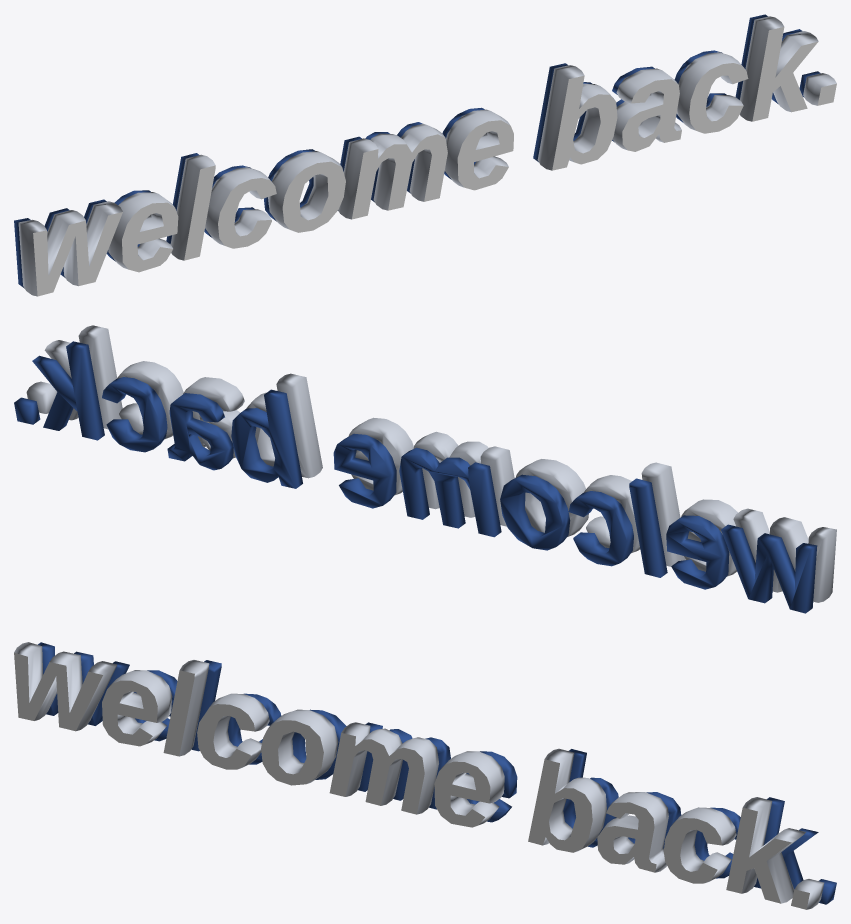
File: title-welcome.glb
3 renders of one model, top to bottom at view 1: azimuth 30°, elevation 25°; view 2: azimuth 150°, elevation 25°; view 3: azimuth 330°, elevation 25°, orthographic.
Parts seen in each view (by area): view 1: welcome; view 2: welcome; view 3: welcome.
Boxes of the visible parts, bbox=[...] form: welcome: bbox=[14, 14, 836, 296]; welcome: bbox=[14, 325, 836, 613]; welcome: bbox=[14, 642, 836, 909].
Bounding box in the file's own units: 0.8359 × 0.0948 × 0.0414.
